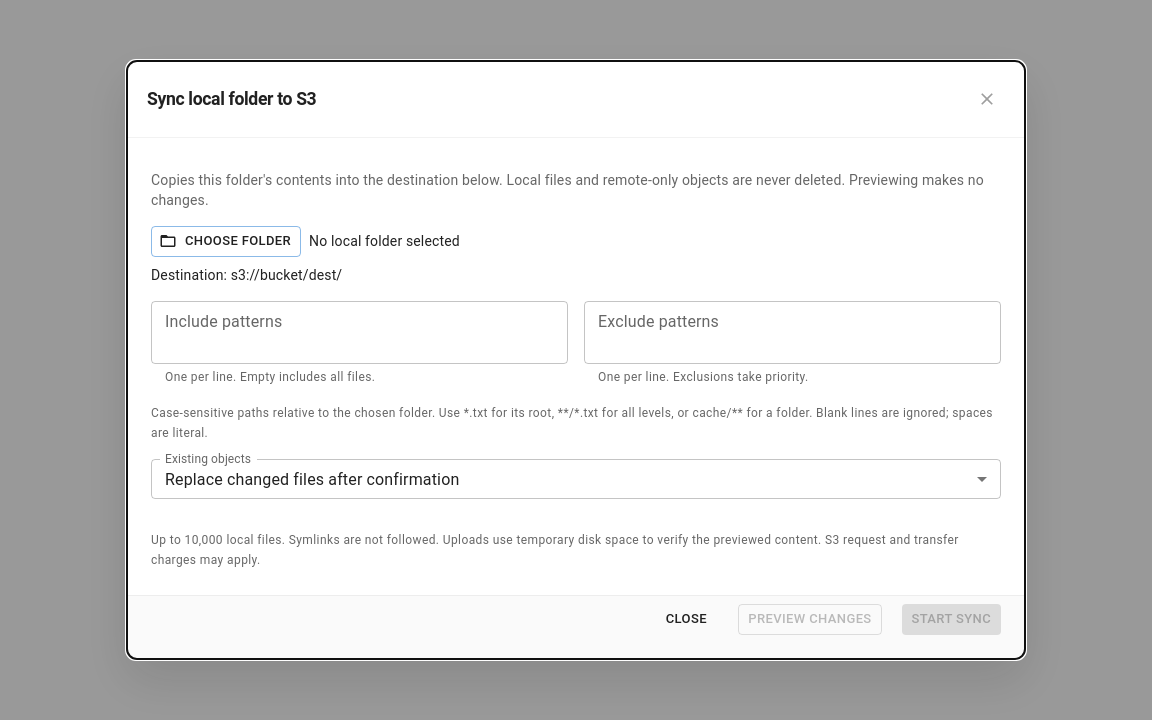
Scenario: expired plan requires a fresh preview instead of replaying approval
The width and height of the screenshot is (1152, 720).
Click the button "Choose folder".
click(226, 241)  # box [151,226,301,257]
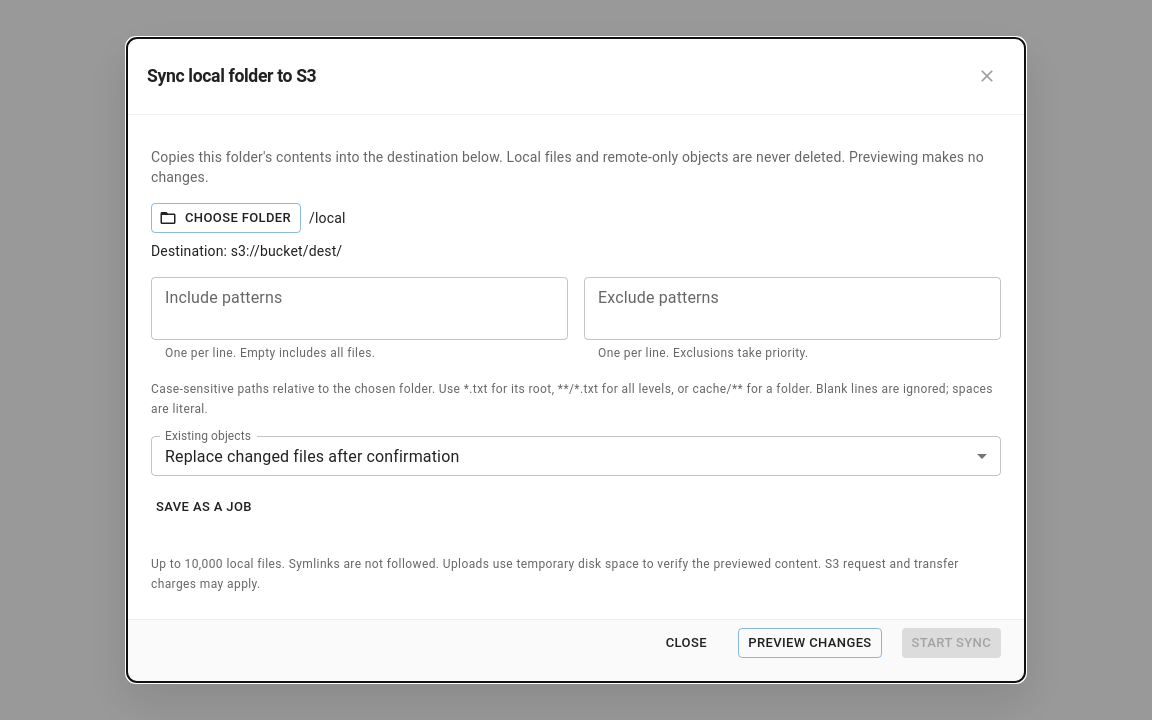
Check: the text "/local" is shown, box [309,210,346,226]
Click the button "Preview changes".
click(810, 643)  # box [738,628,882,658]
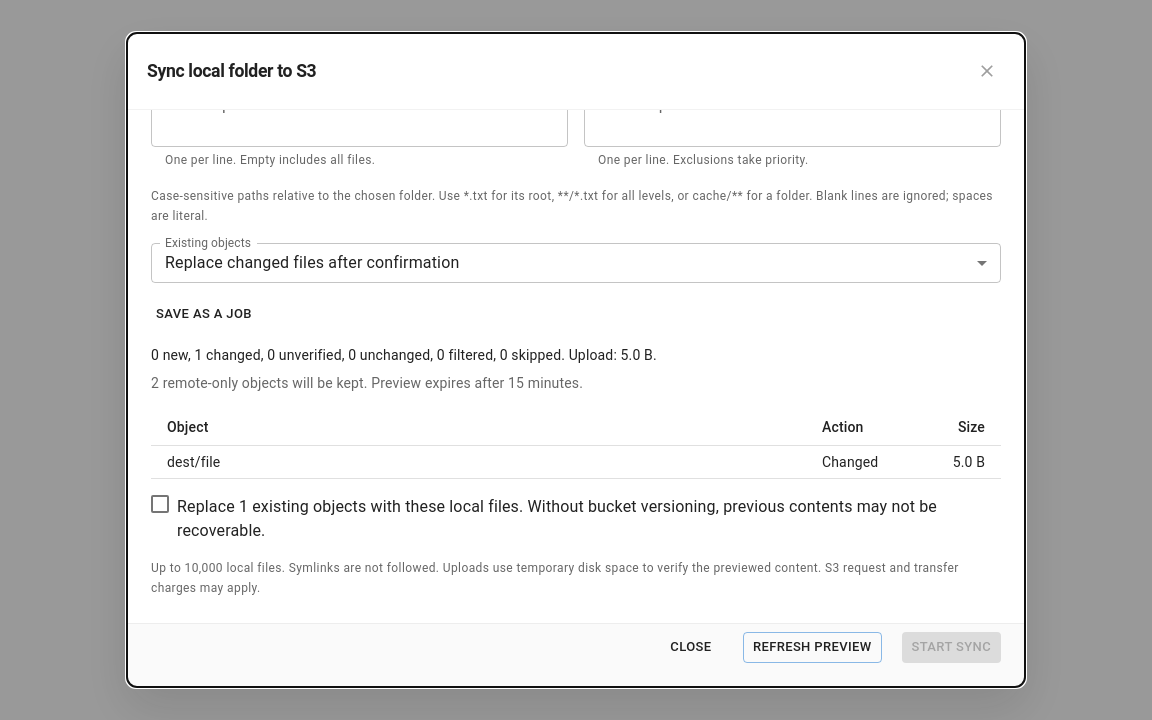
Check: the text "dest/file" is shown, box [167,454,220,470]
Click the checkbox.
click(568, 519)  # box [151,495,985,543]
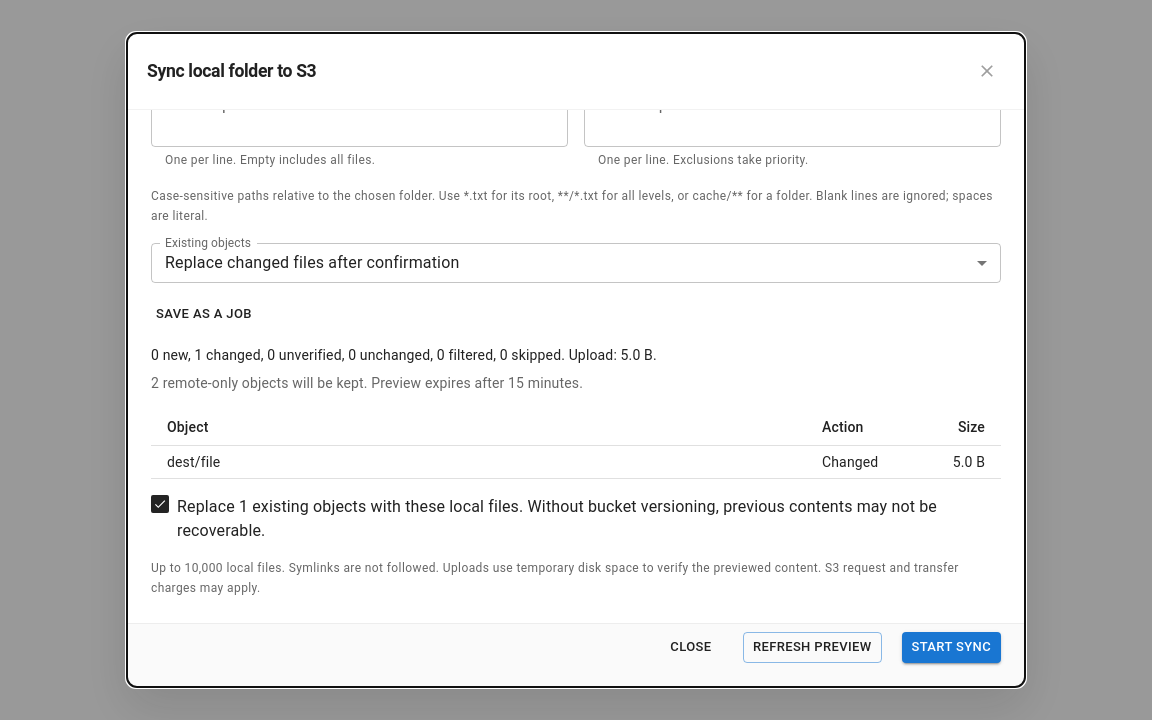
Click the button "Start sync".
click(951, 648)  # box [902,632,1001,663]
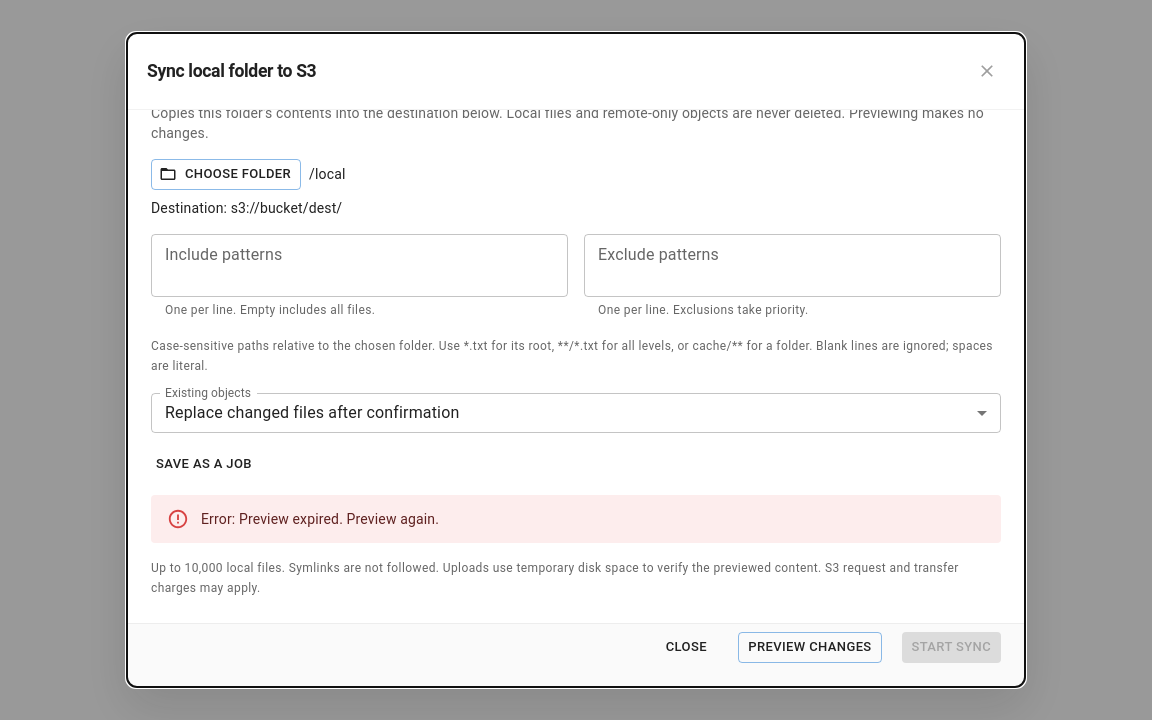
Check: the text "Error: Preview expired. Preview again." is shown, box [201,511,439,527]
Check: the checkbox is gone
Check: the button "Start sync" is disabled, box [902,632,1001,663]
